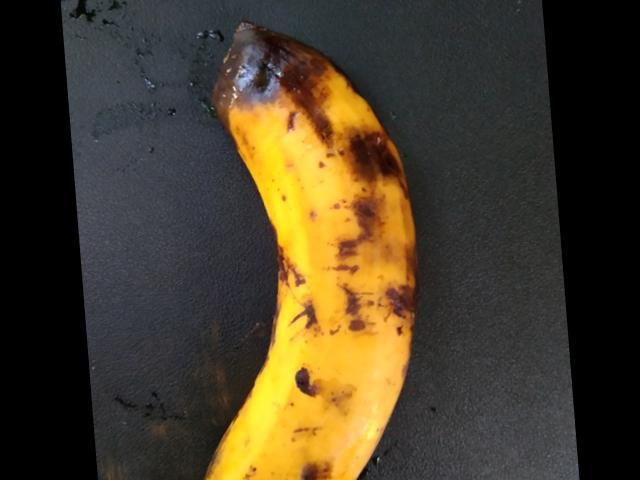overripe: (189, 205, 417, 479)
rotten: (183, 0, 462, 257)
